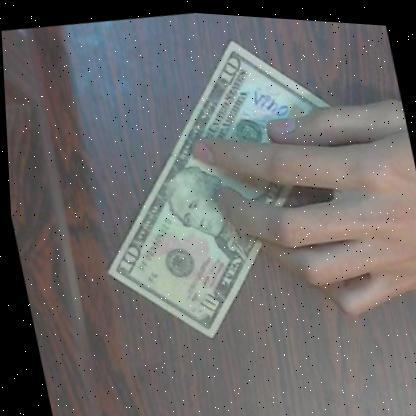ten-front: (58, 13, 374, 360)
